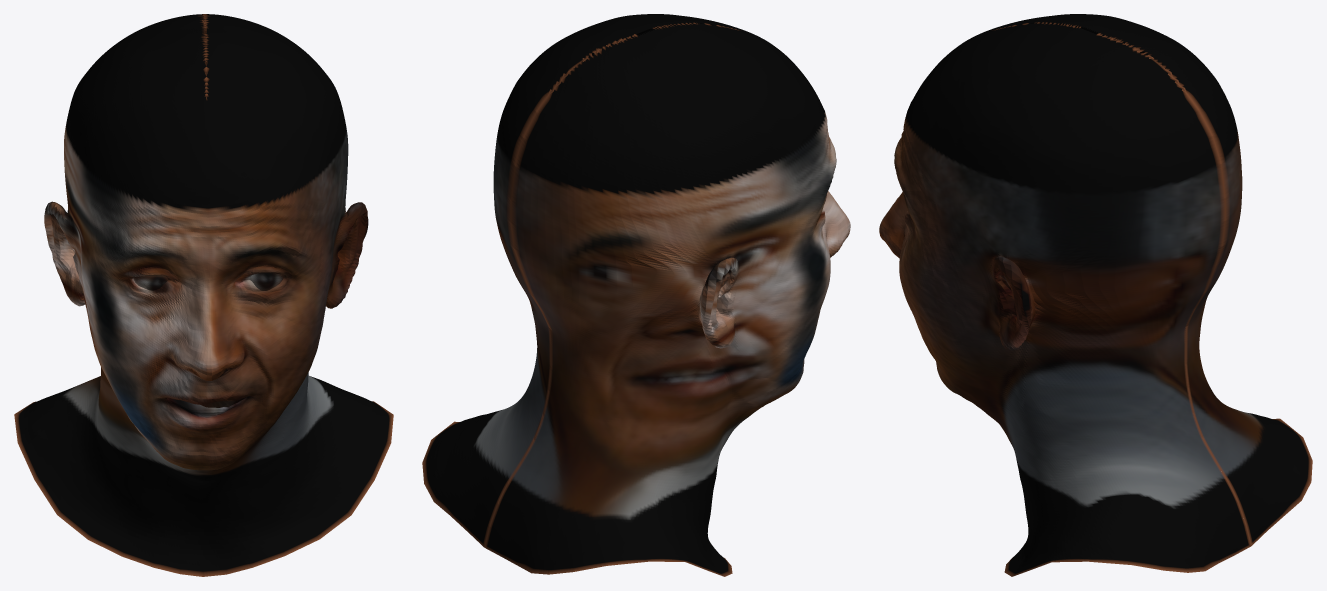
The model's file is mesh_coarse_detail.obj.
3 renders of one model, left to right at view 1: azimuth 30°, elevation 25°; view 2: azimuth 150°, elevation 25°; view 3: azimuth 270°, elevation 25°, orthographic.
Size of the model in its own units: 0.2126 by 0.3266 by 0.2408.
